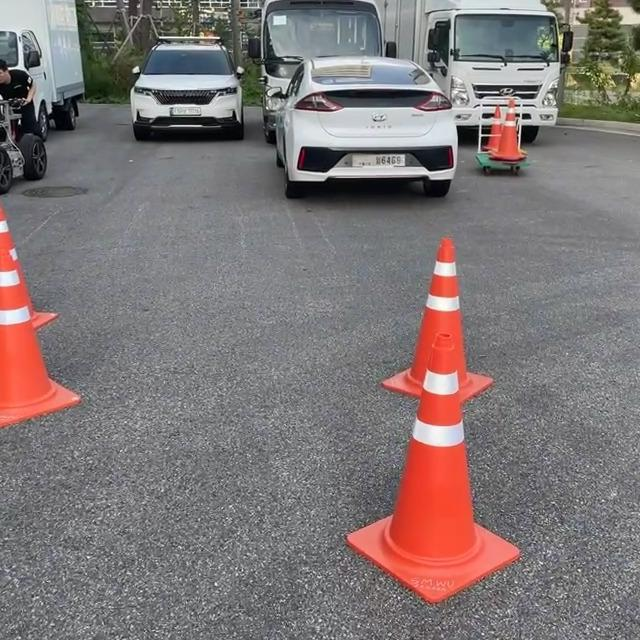fallen_object: (300, 340, 537, 602), (362, 207, 517, 372), (0, 187, 91, 404)
